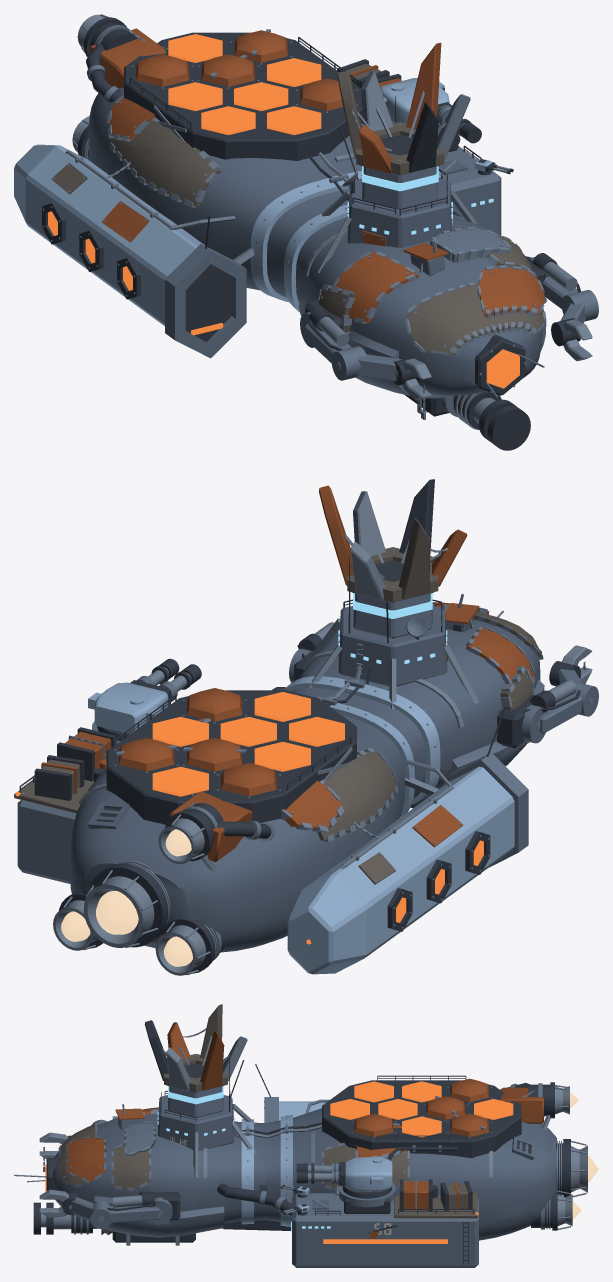
Rendered from scrap_king_wreck.glb.
3 views of the same model, one above another, from view 1: azimuth 30°, elevation 25°; view 2: azimuth 150°, elevation 25°; view 3: azimuth 270°, elevation 25° (orthographic). The views are drawn at different scales.
Visible parts, largest first — view 1: scrap_king_wreck_02, scrap_king_wreck_00, scrap_king_wreck_09, scrap_king_wreck_06, scrap_king_wreck_08, scrap_king_wreck_03, scrap_king_wreck_18, scrap_king_wreck_14, scrap_king_wreck_15, scrap_king_wreck_01, scrap_king_wreck_16, scrap_king_wreck_05 (+3 smaller); view 2: scrap_king_wreck_15, scrap_king_wreck_04, scrap_king_wreck_08, scrap_king_wreck_09, scrap_king_wreck_06, scrap_king_wreck_05, scrap_king_wreck_13, scrap_king_wreck_02, scrap_king_wreck_01, scrap_king_wreck_16, scrap_king_wreck_18, scrap_king_wreck_07 (+5 smaller); view 3: scrap_king_wreck_07, scrap_king_wreck_13, scrap_king_wreck_03, scrap_king_wreck_14, scrap_king_wreck_01, scrap_king_wreck_04, scrap_king_wreck_11, scrap_king_wreck_06, scrap_king_wreck_17, scrap_king_wreck_05, scrap_king_wreck_16, scrap_king_wreck_00 (+3 smaller).
Part boxes in pixels (box(x1,y1,x2,y2)): scrap_king_wreck_02: box(151, 122, 341, 282); scrap_king_wreck_00: box(346, 287, 543, 450); scrap_king_wreck_09: box(24, 146, 180, 301); scrap_king_wreck_06: box(116, 38, 316, 152); scrap_king_wreck_08: box(287, 216, 411, 384); scrap_king_wreck_03: box(361, 155, 537, 288); scrap_king_wreck_18: box(127, 246, 299, 358); scrap_king_wreck_14: box(454, 253, 598, 374); scrap_king_wreck_15: box(14, 16, 182, 219); scrap_king_wreck_01: box(268, 69, 440, 194); scrap_king_wreck_16: box(339, 42, 470, 185); scrap_king_wreck_05: box(320, 71, 421, 228); scrap_king_wreck_15: box(171, 786, 370, 974); scrap_king_wreck_04: box(53, 782, 196, 975); scrap_king_wreck_08: box(409, 631, 598, 800); scrap_king_wreck_09: box(332, 773, 486, 960); scrap_king_wreck_06: box(157, 712, 361, 826); scrap_king_wreck_05: box(320, 522, 447, 704); scrap_king_wreck_13: box(14, 706, 182, 876); scrap_king_wreck_02: box(302, 699, 506, 823); scrap_king_wreck_01: box(144, 671, 340, 720); scrap_king_wreck_16: box(319, 479, 467, 582); scrap_king_wreck_18: box(400, 757, 528, 879); scrap_king_wreck_07: box(57, 681, 153, 780); scrap_king_wreck_07: box(321, 1150, 470, 1267); scrap_king_wreck_13: box(398, 1113, 531, 1267); scrap_king_wreck_03: box(100, 1083, 233, 1223); scrap_king_wreck_14: box(14, 1132, 174, 1237); scrap_king_wreck_01: box(247, 1100, 403, 1203); scrap_king_wreck_04: box(504, 1087, 598, 1230); scrap_king_wreck_11: box(165, 1138, 291, 1245); scrap_king_wreck_06: box(356, 1075, 508, 1129); scrap_king_wreck_17: box(234, 1163, 342, 1267); scrap_king_wreck_05: box(191, 1004, 276, 1141); scrap_king_wreck_16: box(144, 1004, 224, 1085); scrap_king_wreck_00: box(16, 1120, 165, 1245).
Bounding box in the file's own units: 5.72 × 4.74 × 11.26.
